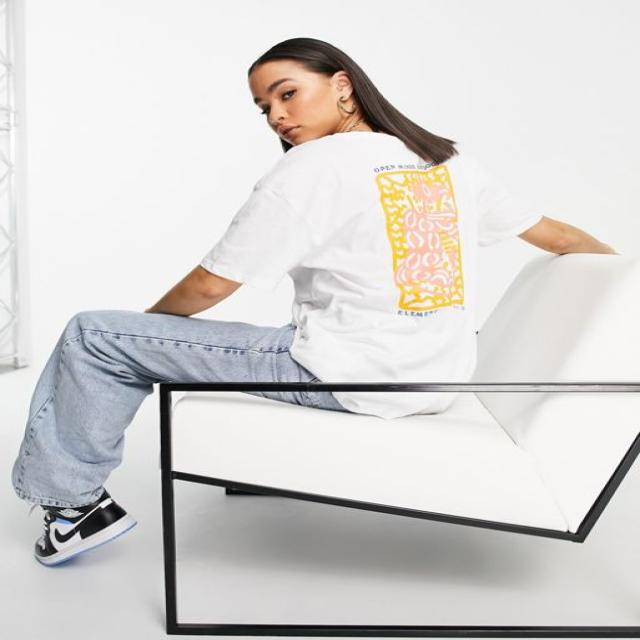tshirt: (197, 128, 543, 419)
